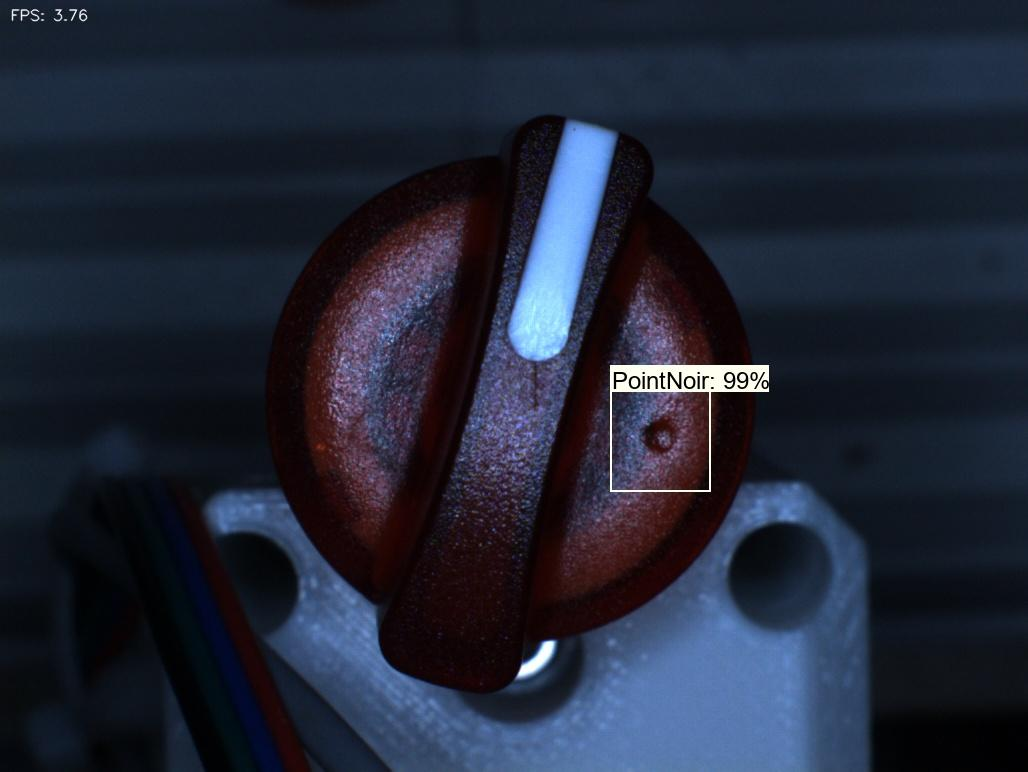Choc: (613, 397, 700, 486)
